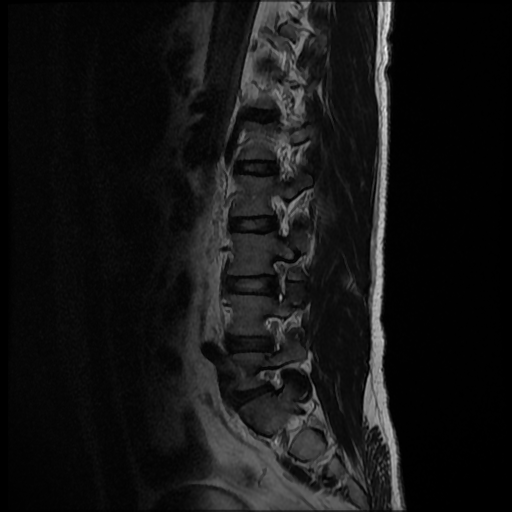LFS0: (255, 310, 295, 360), (261, 188, 297, 242), (252, 362, 291, 407)
LFS1: (261, 253, 299, 305)
